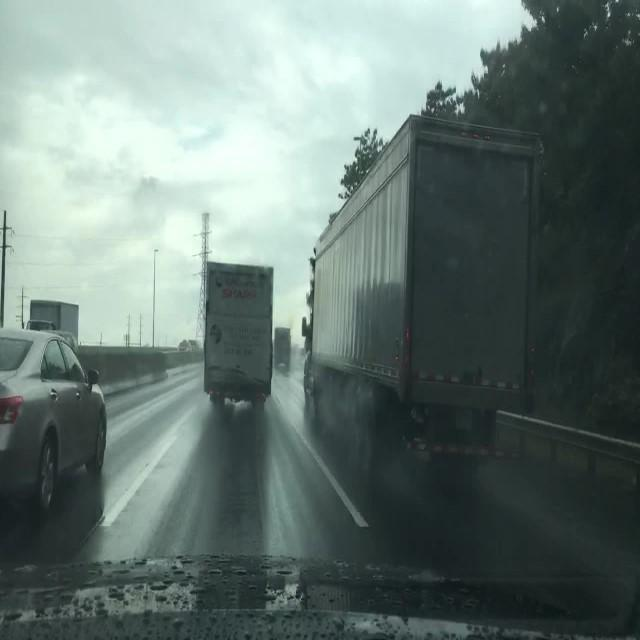normal: (302, 101, 562, 485), (0, 313, 129, 547), (173, 233, 297, 437)
